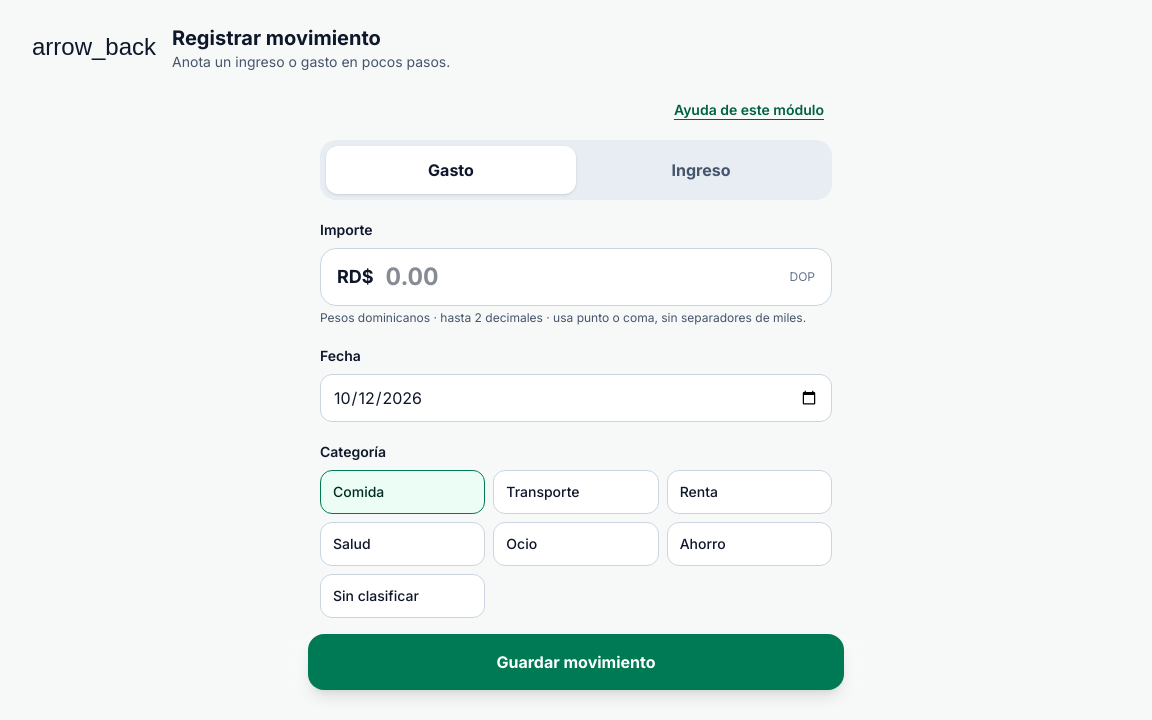
QuickAddTransaction › prevents a second submission while the first request is pending
Type "8" into the field labelled "Importe" at (582, 277), box [386, 261, 778, 293]
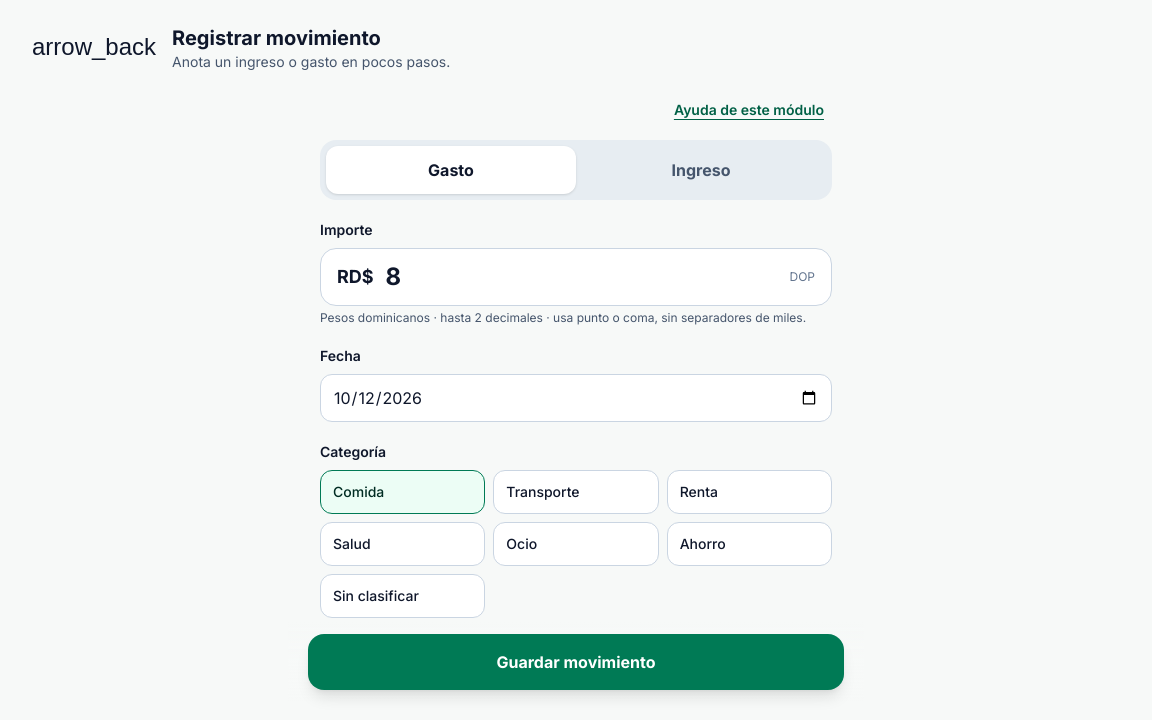
Click the button "Guardar movimiento" at (576, 662), box [308, 634, 844, 690]
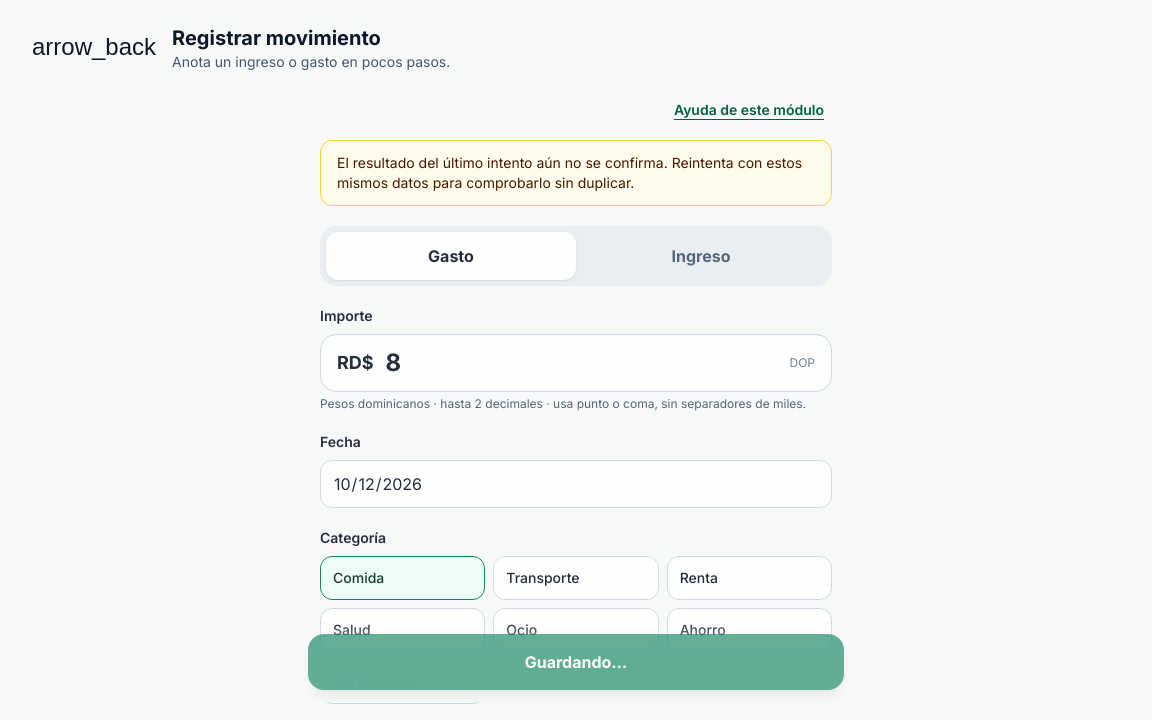
Click the button named "Guardar movimiento" at (576, 662), box [308, 634, 844, 690]
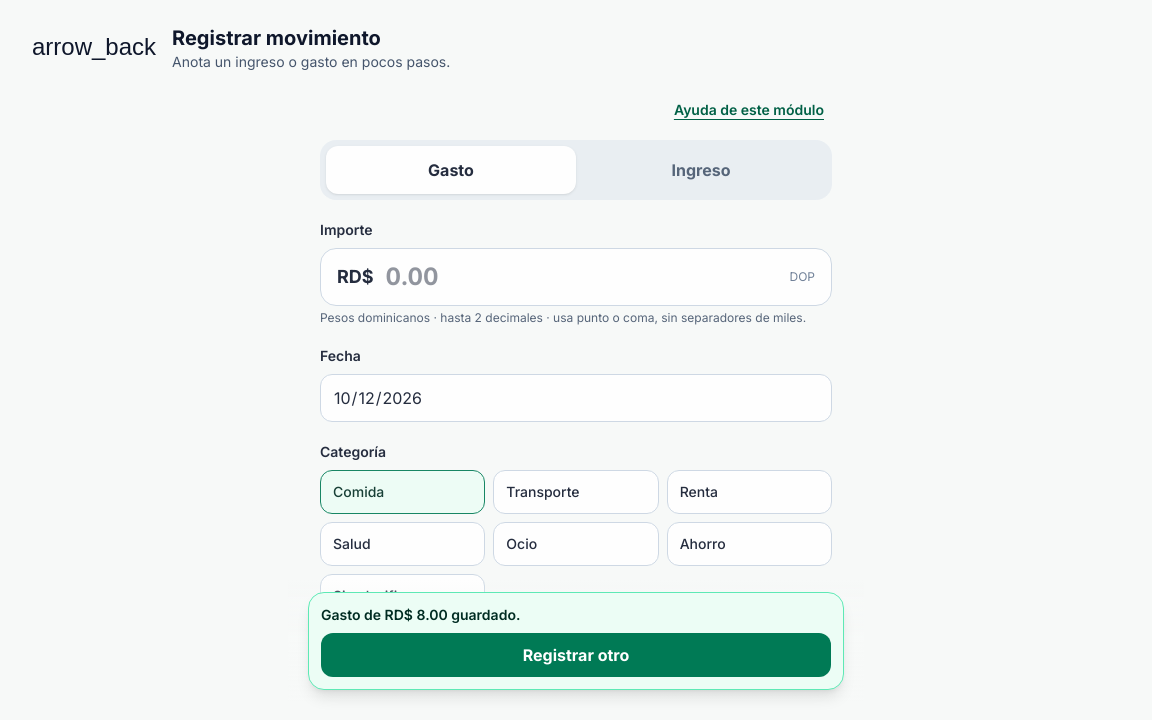
Result: the text "Gasto de RD$ 8.00 guardado." is shown at [321, 606, 520, 623]
